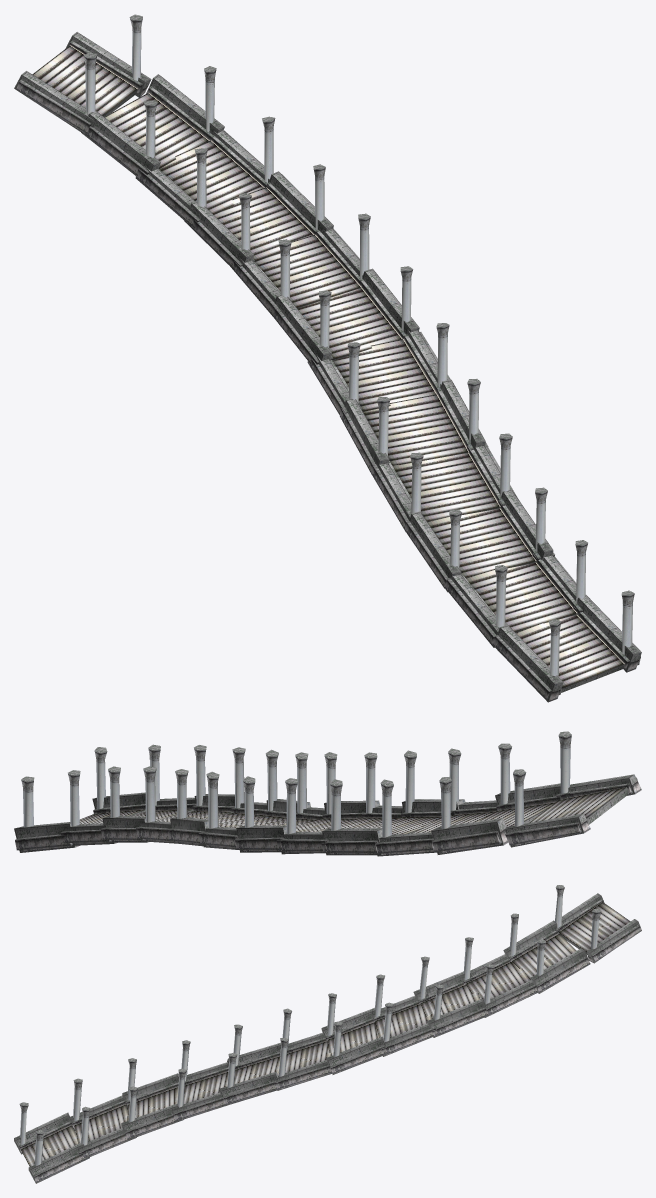
Rendered from misc_stairs_base.glb.
3 renders of one model, top to bottom at view 1: azimuth 30°, elevation 25°; view 2: azimuth 210°, elevation 25°; view 3: azimuth 270°, elevation 25°, orthographic. The views are drawn at different scales.
Visible parts, largest first — view 1: MeshRoot; view 2: MeshRoot; view 3: MeshRoot.
Boxes of the visible parts, box(x1,y1,x2,y2) form: MeshRoot: box(14, 14, 641, 702); MeshRoot: box(14, 731, 641, 856); MeshRoot: box(14, 885, 641, 1183).
Size of the model in its own units: 10.88 by 18.5 by 42.75.
Materials: 1 (1 with a texture image).
